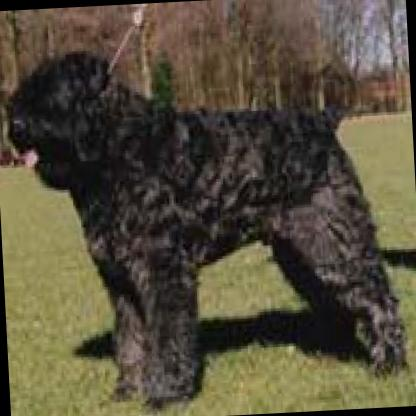Bouvier_des_Flandres: (0, 26, 405, 409)
